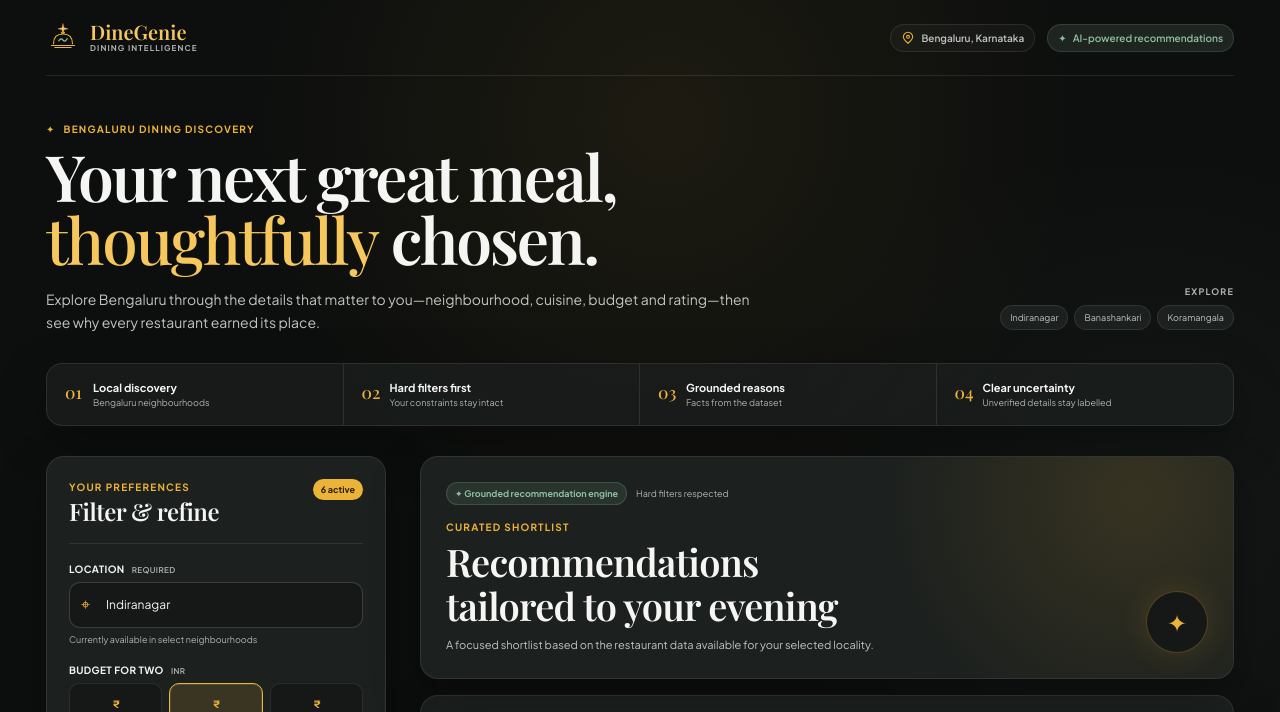
Test: restaurant search › keeps failed locality metadata retry reachable by keyboard
Click the dropdown labelled "Location Required" at (216,605), box [69,582,363,628]
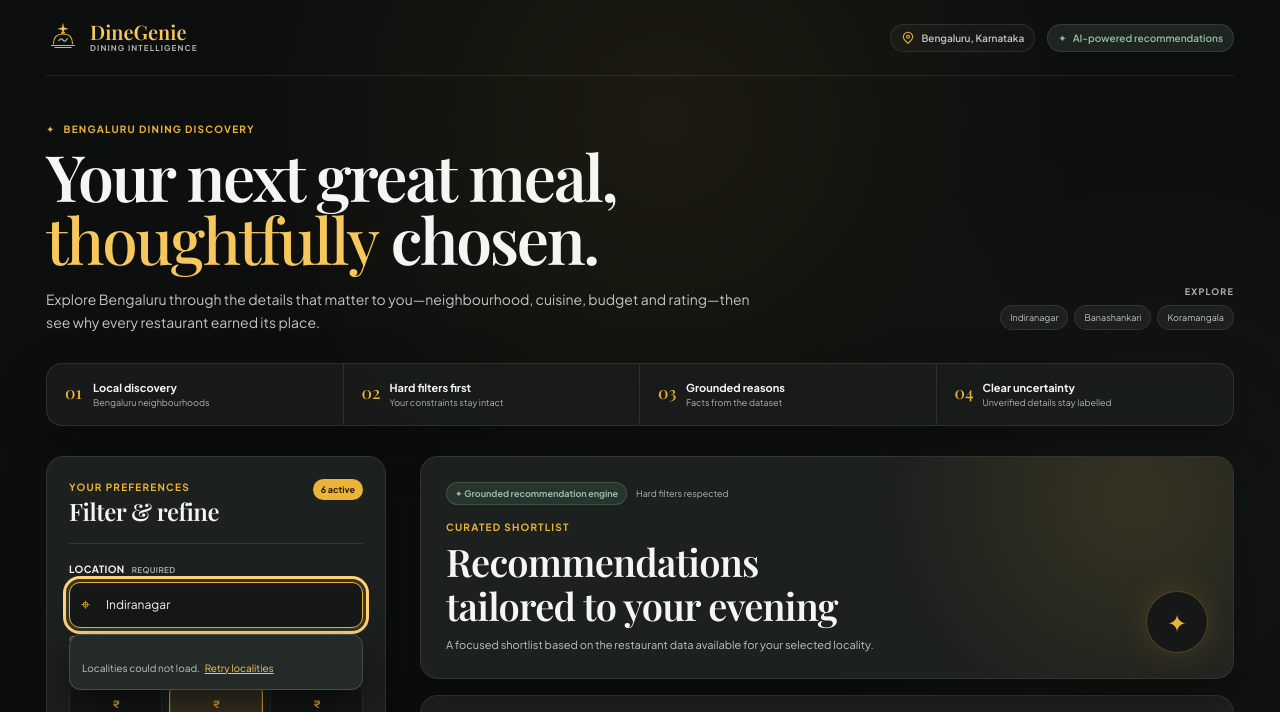
Press Tab
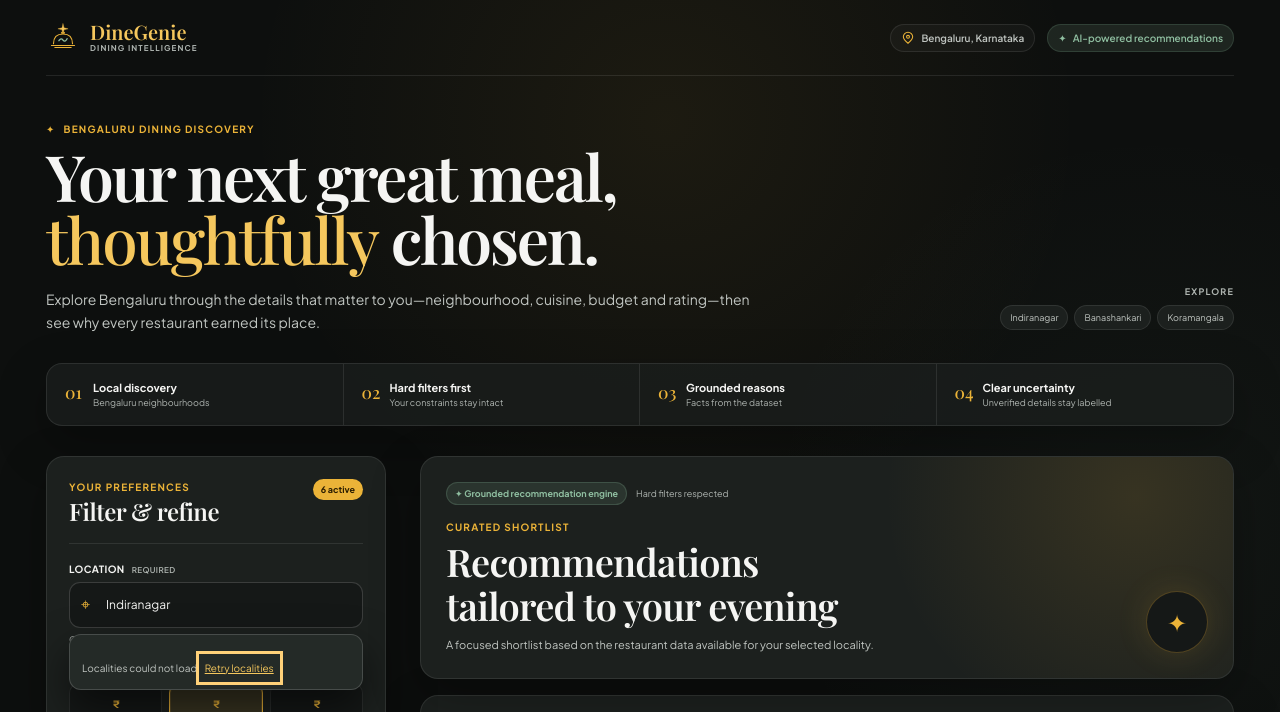
Press Enter
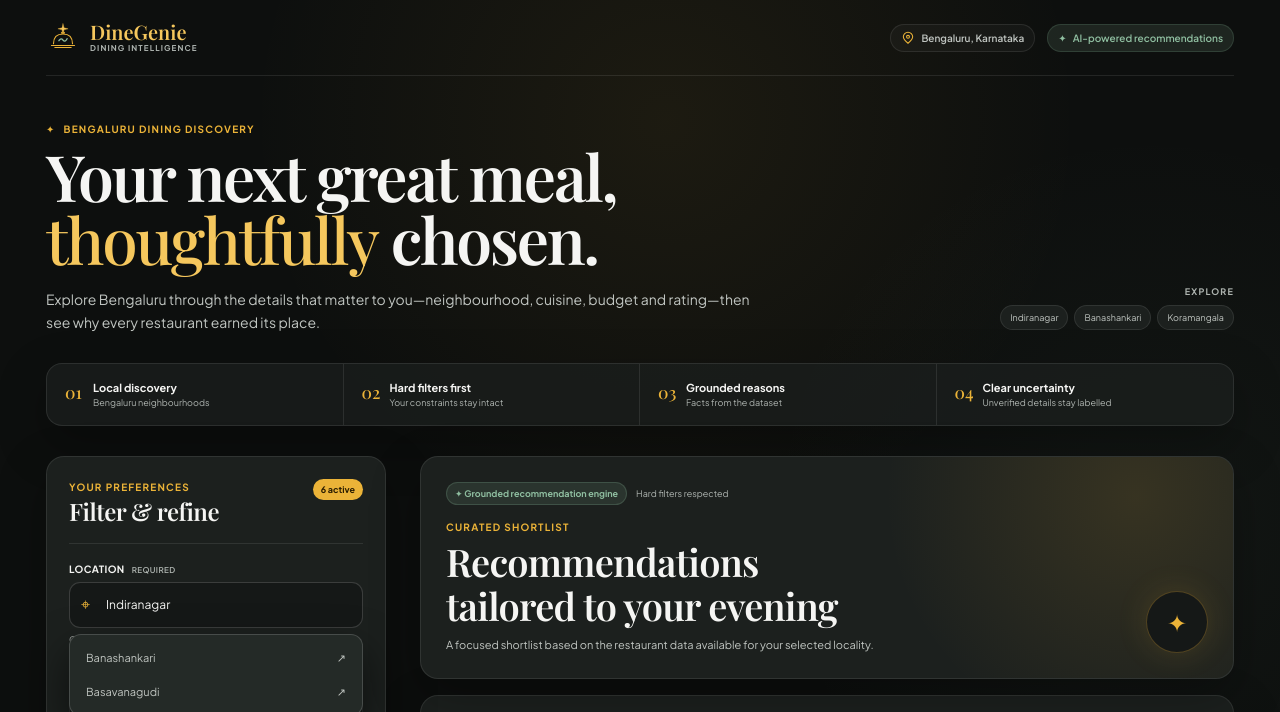
expect the option "Banashankari ↗" is shown: met, box [86,651,346,664]
